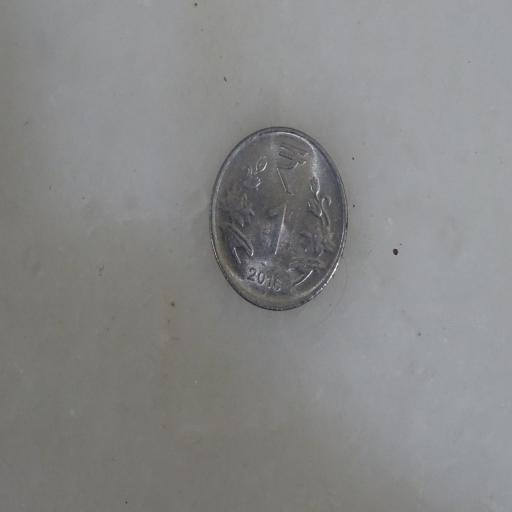rupee1: (206, 126, 348, 311)
